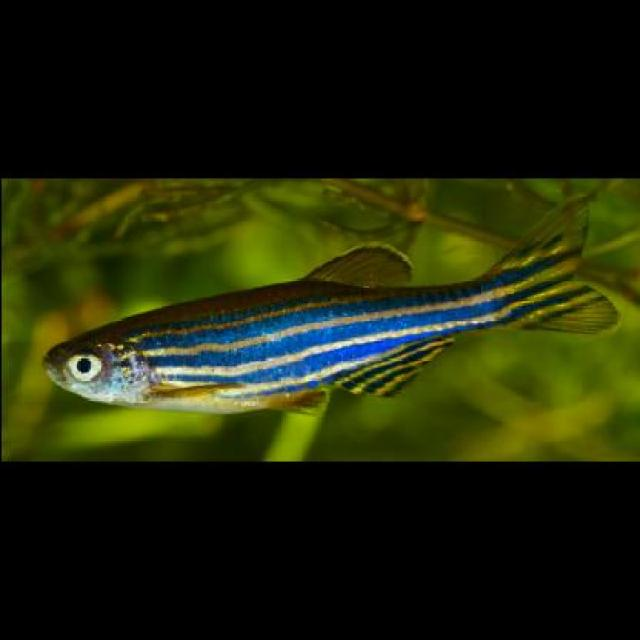ZebraFish: (42, 191, 622, 415)
